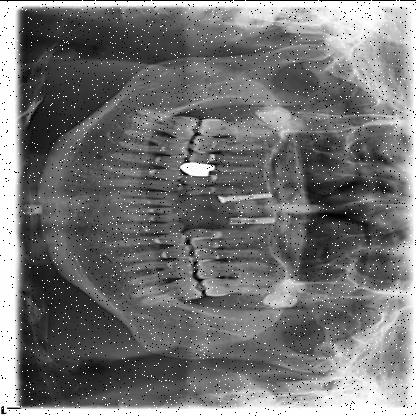ITI: (228, 192, 274, 200), (228, 216, 278, 223)
